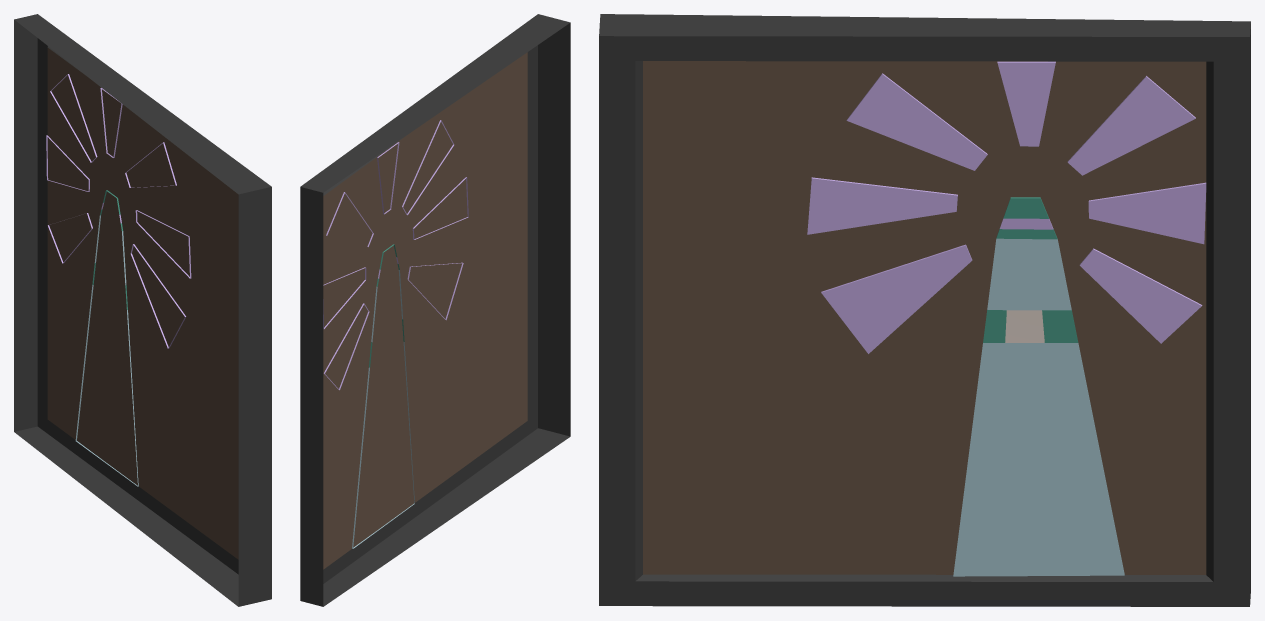
File: Bedroom3_picture1.fbx
3 views of the same model, side by side, from view 1: azimuth 30°, elevation 25°; view 2: azimuth 150°, elevation 25°; view 3: azimuth 270°, elevation 25° (orthographic). The views are drawn at different scales.
Parts seen in each view (by area): view 1: Bedroom3_picture1; view 2: Bedroom3_picture1; view 3: Bedroom3_picture1.
Part boxes in pixels (x1,y1,x2,y2): Bedroom3_picture1: [14, 14, 271, 606]; Bedroom3_picture1: [300, 14, 570, 606]; Bedroom3_picture1: [599, 14, 1250, 606].
Bounding box in the file's own units: 5.74 × 65.99 × 68.4.
